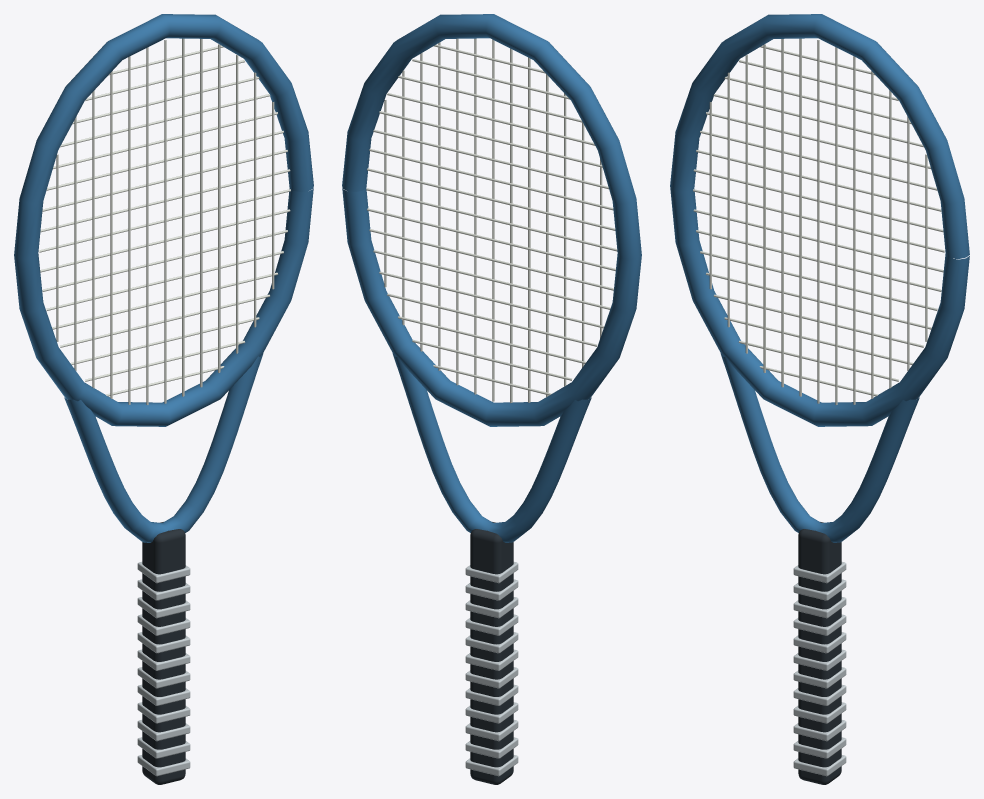
Rendered from squash-club-and-racket-workshop-racket-e7e35659__29753.glb.
3 renders of one model, left to right at view 1: azimuth 30°, elevation 25°; view 2: azimuth 150°, elevation 25°; view 3: azimuth 330°, elevation 25°, orthographic.
Parts seen in each view (by area): view 1: racket; view 2: racket; view 3: racket.
Boxes of the visible parts, x1,y1,x2,y2 form: racket: (14,14,313,784); racket: (342,14,641,784); racket: (670,14,969,784).
Size of the model in its own units: 0.2471 by 0.6086 by 0.028.
